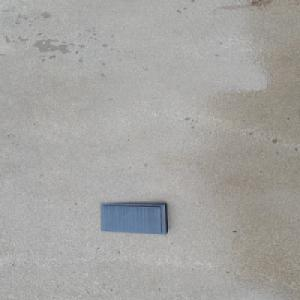PlasticPart: (98, 202, 169, 234)
